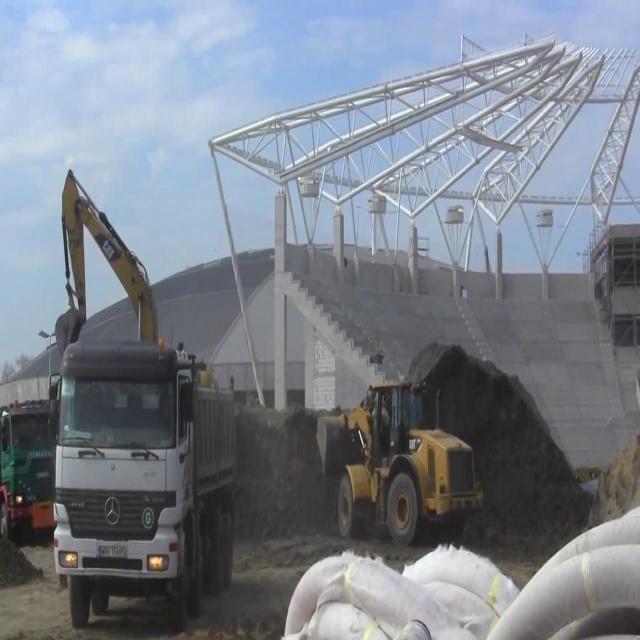Dump Truck: (50, 339, 238, 626), (1, 398, 58, 543)
Loader: (316, 380, 484, 546)
